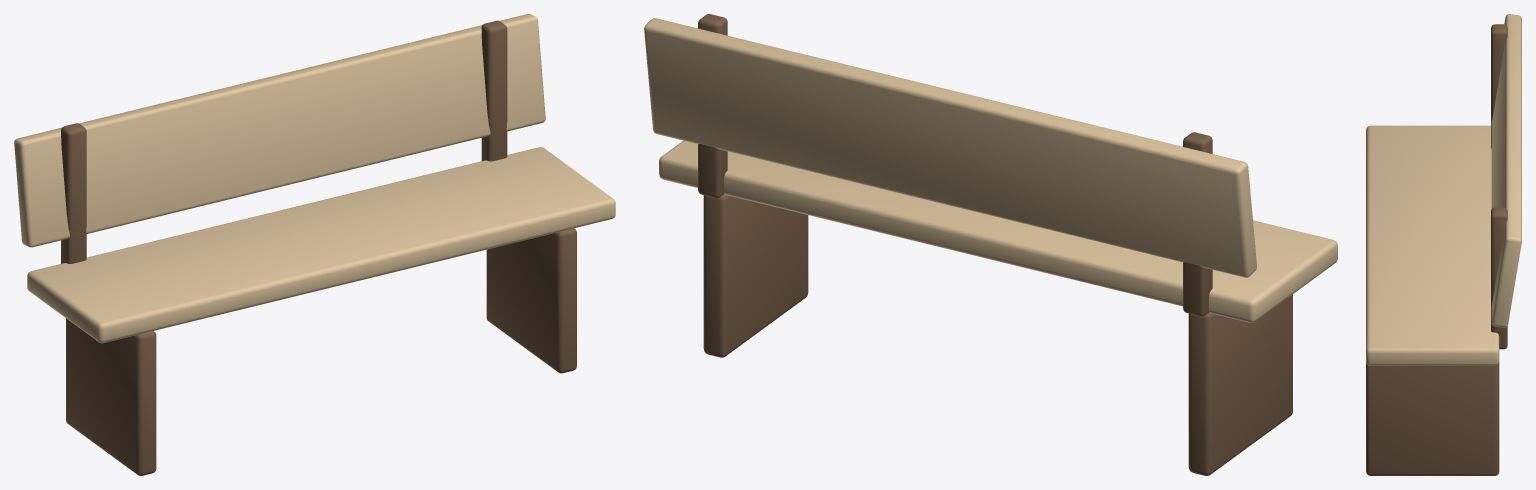
The model's file is bench.glb.
The picture shows the model from 3 angles, left to right: view 1: azimuth 30°, elevation 25°; view 2: azimuth 150°, elevation 25°; view 3: azimuth 270°, elevation 25°; orthographic projection. The views are drawn at different scales.
Parts seen in each view (by area): view 1: bench; view 2: bench; view 3: bench.
Boxes of the visible parts, box(x1,y1,x2,y2) form: bench: box(14, 14, 615, 475); bench: box(644, 14, 1337, 475); bench: box(1366, 14, 1521, 475).
Bounding box in the file's own units: 1.6 × 0.87 × 0.4679.
